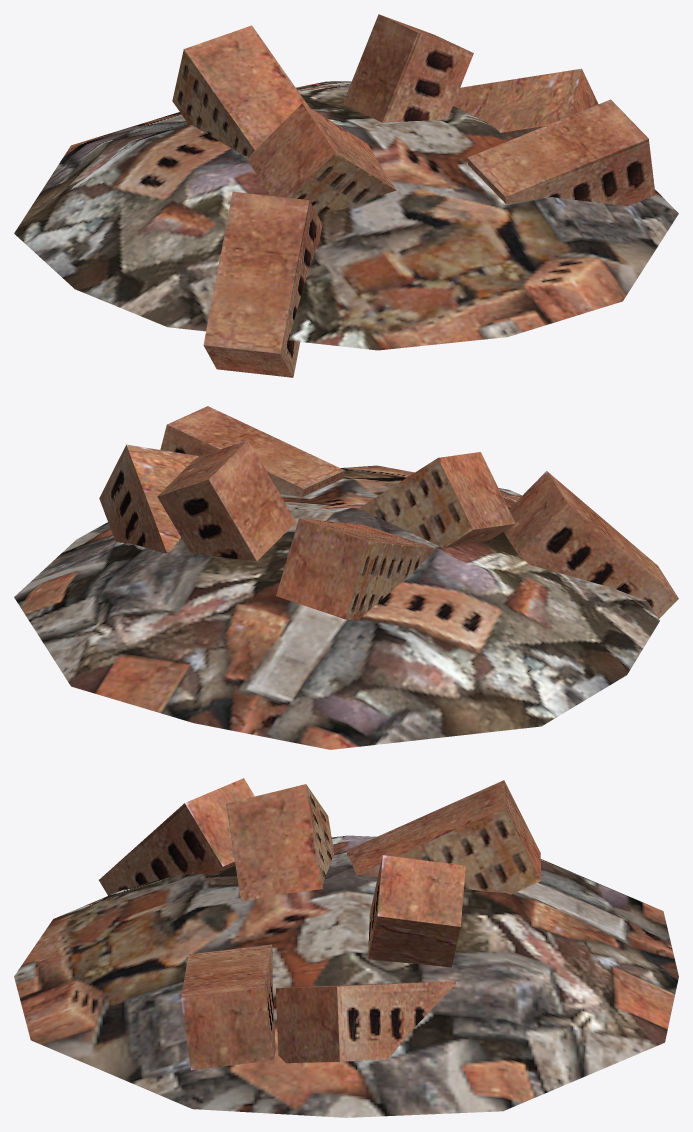
File: Debris2_4_LOD2.fbx
The picture shows the model from 3 angles, top to bottom: view 1: azimuth 30°, elevation 25°; view 2: azimuth 150°, elevation 25°; view 3: azimuth 270°, elevation 25°; orthographic projection. The views are drawn at different scales.
Parts seen in each view (by area): view 1: polySurface313; view 2: polySurface313; view 3: polySurface313.
Part boxes in pixels (x1=…): polySurface313: x1=14, y1=14, x2=678, y2=377; polySurface313: x1=14, y1=406, x2=678, y2=749; polySurface313: x1=14, y1=778, x2=678, y2=1117.
Size of the model in its own units: 1.4 by 0.4945 by 1.4.
